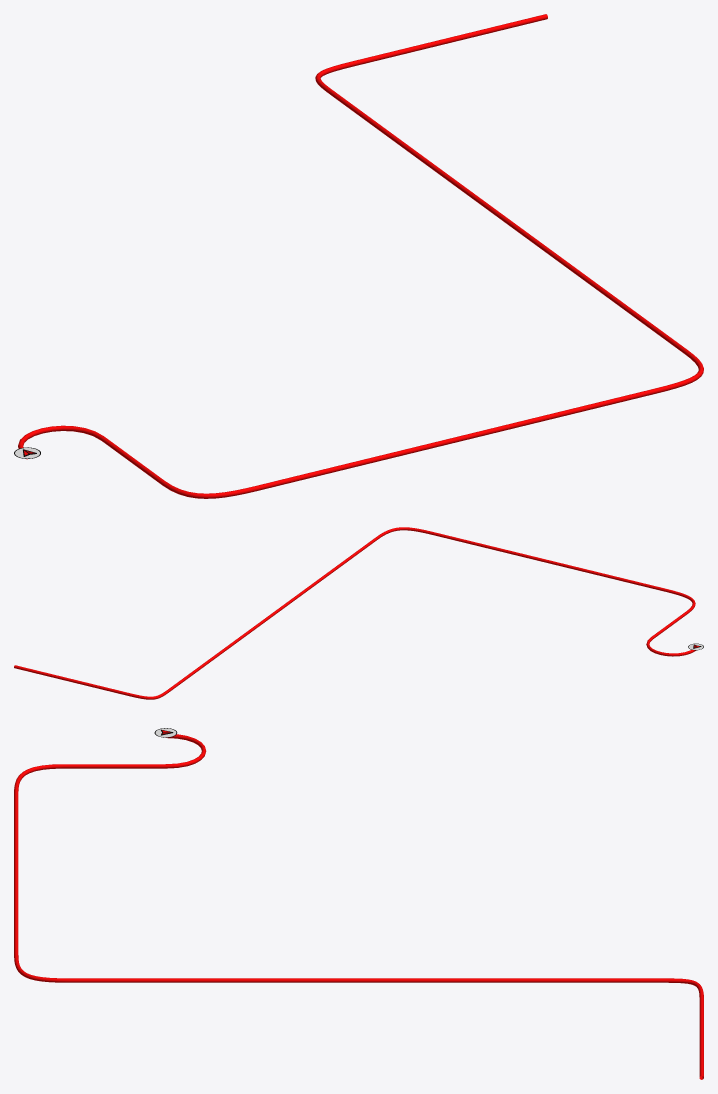
Rendered from route_21fd584e-c1e5-4c65-8284-8746d7bd8231_en_target.glb.
3 renders of one model, top to bottom at view 1: azimuth 30°, elevation 25°; view 2: azimuth 150°, elevation 25°; view 3: azimuth 270°, elevation 25°, orthographic. The views are drawn at different scales.
Parts seen in each view (by area): view 1: Station 11a; view 2: Station 11a; view 3: Station 11a.
Part boxes in pixels (bbox=[...]): Station 11a: bbox=[18, 14, 703, 498]; Station 11a: bbox=[14, 527, 696, 699]; Station 11a: bbox=[14, 734, 703, 1079].
Bounding box in the file's own units: 14.78 × 0.1086 × 12.42.
